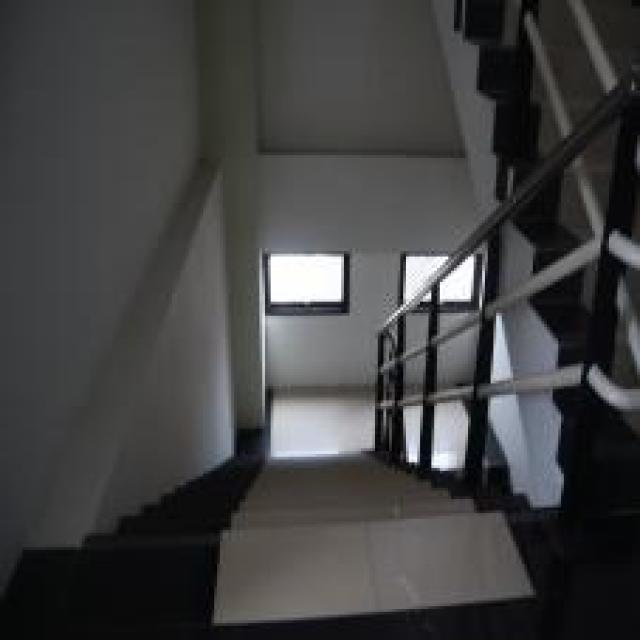downstair: (204, 458, 410, 624)
